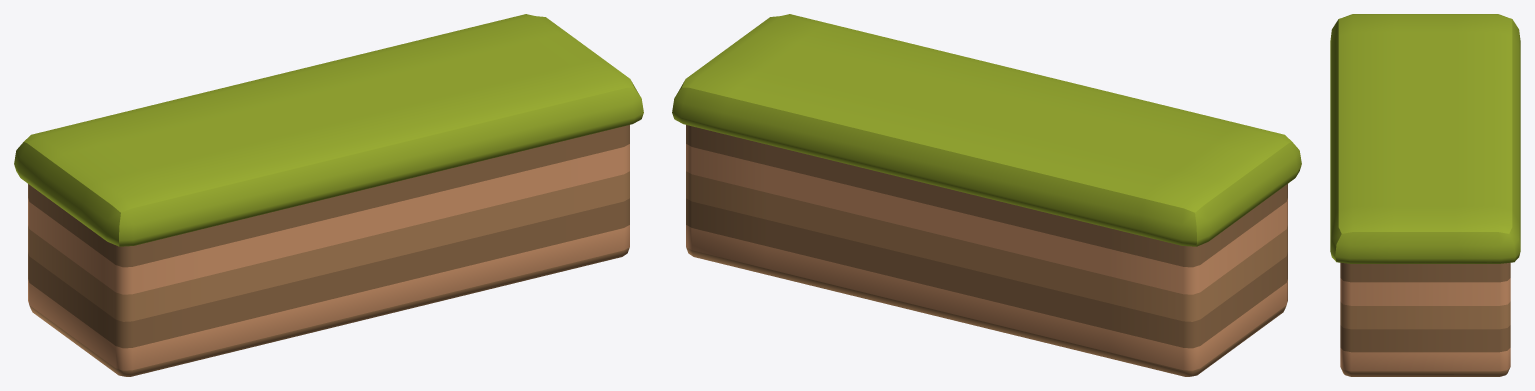
The model's file is Cube_Grass_1x1End_004.gltf.
The picture shows the model from 3 angles, left to right: view 1: azimuth 30°, elevation 25°; view 2: azimuth 150°, elevation 25°; view 3: azimuth 270°, elevation 25°; orthographic projection. The views are drawn at different scales.
Parts seen in each view (by area): view 1: Cube_Grass_1x1End.004; view 2: Cube_Grass_1x1End.004; view 3: Cube_Grass_1x1End.004.
Part boxes in pixels (bbox=[...]): Cube_Grass_1x1End.004: bbox=[14, 14, 643, 376]; Cube_Grass_1x1End.004: bbox=[672, 14, 1301, 376]; Cube_Grass_1x1End.004: bbox=[1330, 14, 1520, 376].
Size of the model in its own units: 6.23 by 2 by 2.23.
